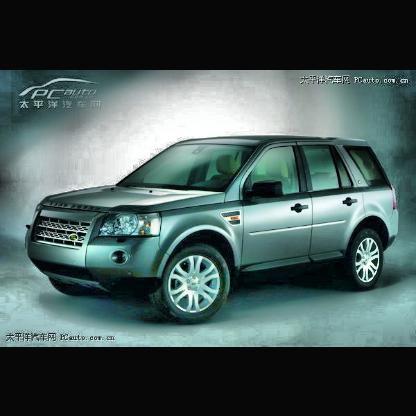Land Rover LR2 SUV 2012: (28, 135, 403, 330)
